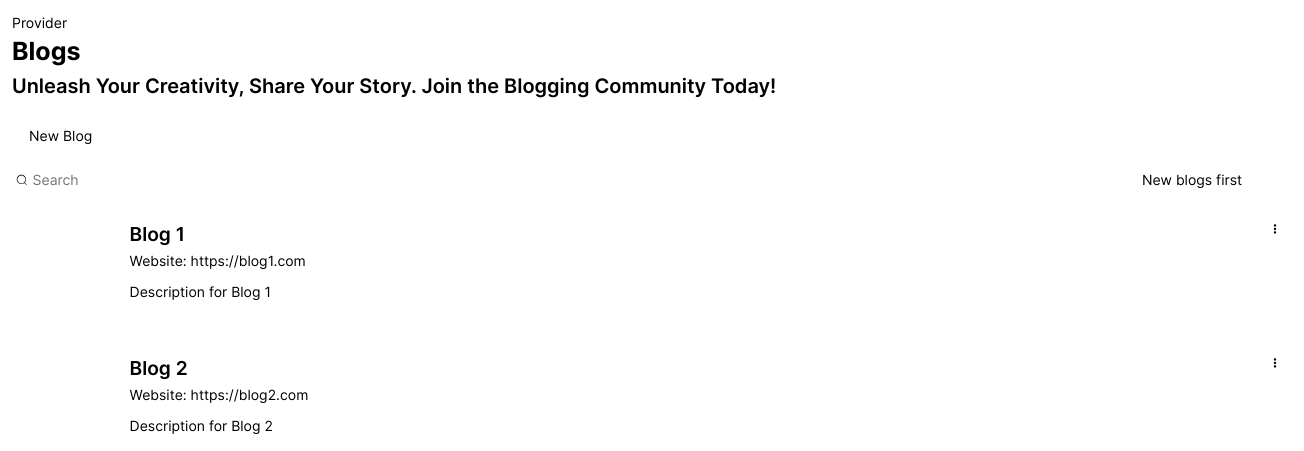
Test case: Blogs page › should render blogs with search term after 500ms debounce delay
This screenshot has width=1304, height=451.
Type "blog 1" into the field with placeholder "Search". click: (552, 180)
box: left=31, top=167, right=1074, bottom=192
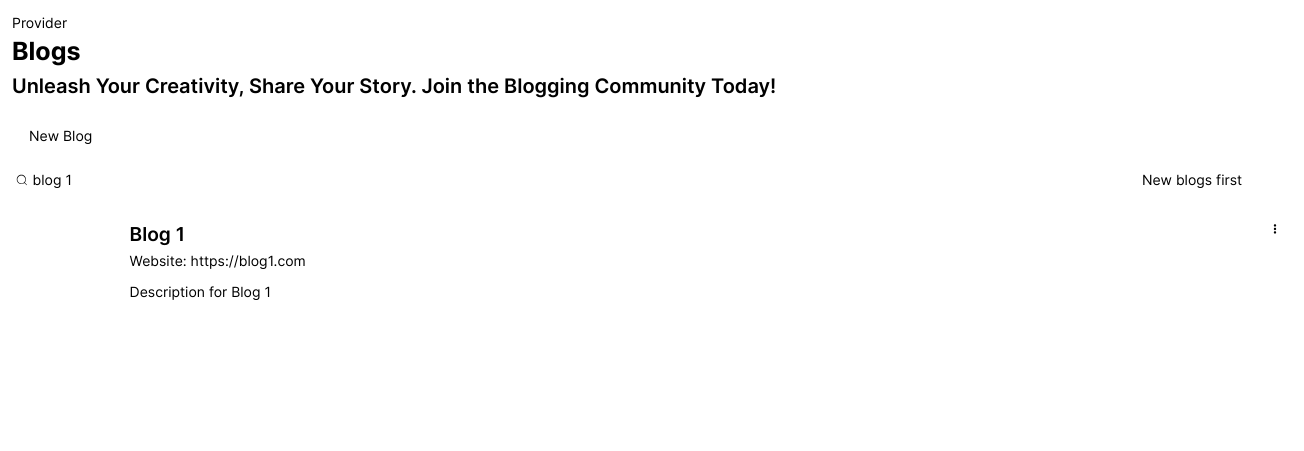
Expected: the heading "Blog 1" is shown, left=130, top=222, right=185, bottom=246
Result: the link "Blog 2" is gone
